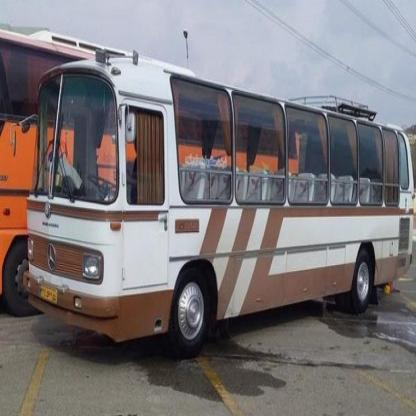Bus: (18, 43, 416, 348), (0, 42, 302, 307)
